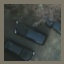car: (12, 19, 49, 46)
